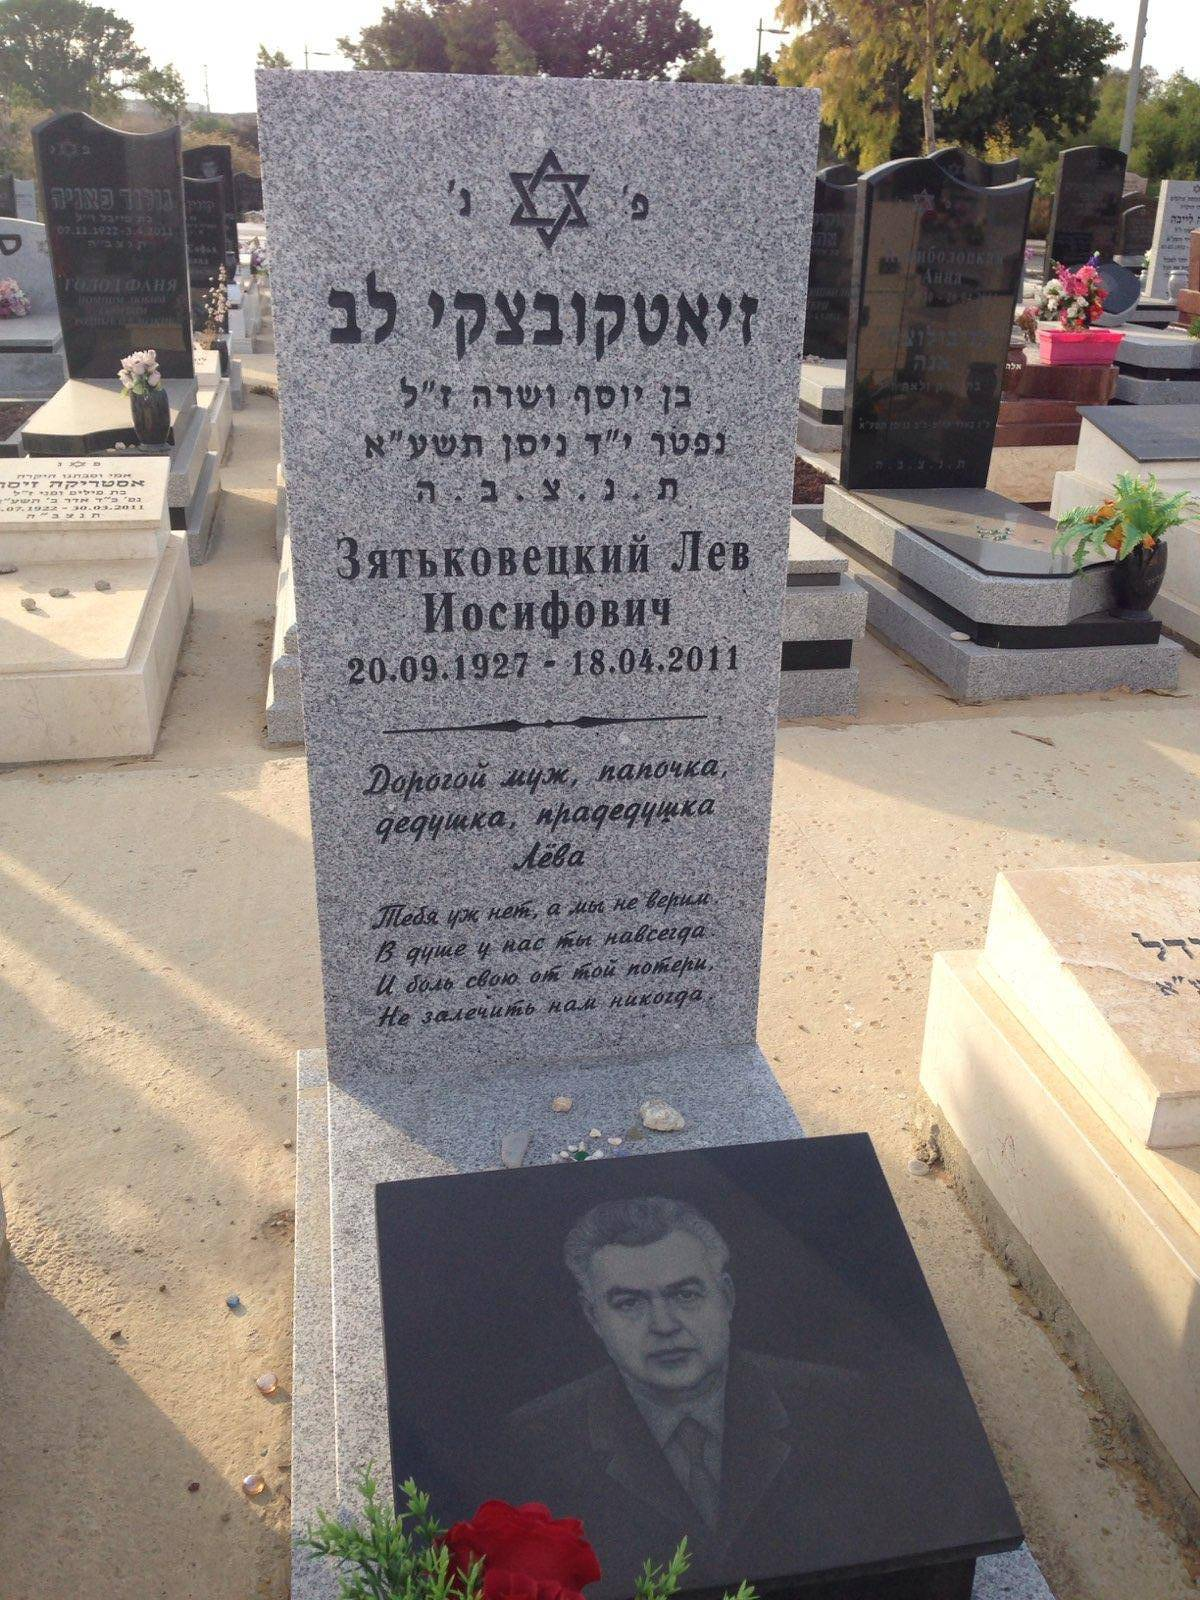vault: (229, 50, 1032, 1580)
